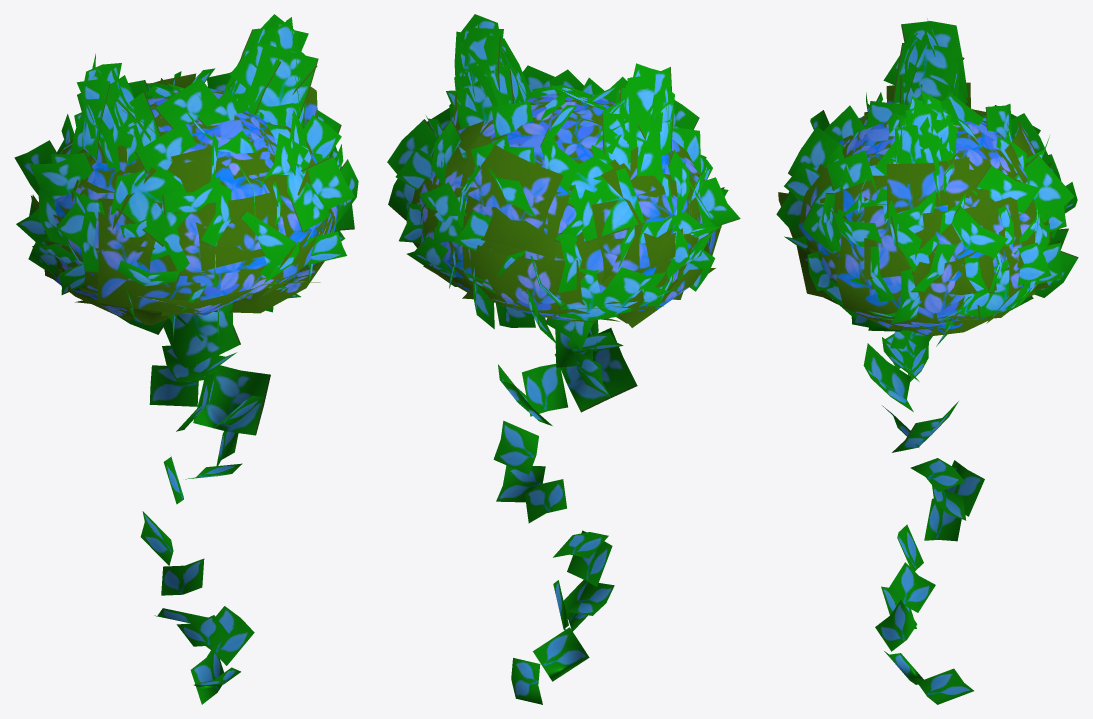
The model's file is Homeworld_Exterior_Common_Flower_Decoration_Green_02_A_Lod0.fbx.
The picture shows the model from 3 angles, left to right: view 1: azimuth 30°, elevation 25°; view 2: azimuth 150°, elevation 25°; view 3: azimuth 270°, elevation 25°; orthographic projection. The views are drawn at different scales.
Parts seen in each view (by area): view 1: Homeworld_Exterior_Common_Flower_Decoration_Green_02_A_Lod0; view 2: Homeworld_Exterior_Common_Flower_Decoration_Green_02_A_Lod0; view 3: Homeworld_Exterior_Common_Flower_Decoration_Green_02_A_Lod0.
Boxes of the visible parts, box(x1,y1,x2,y2) form: Homeworld_Exterior_Common_Flower_Decoration_Green_02_A_Lod0: box(14, 14, 358, 704); Homeworld_Exterior_Common_Flower_Decoration_Green_02_A_Lod0: box(387, 14, 740, 704); Homeworld_Exterior_Common_Flower_Decoration_Green_02_A_Lod0: box(776, 18, 1078, 704).
Bounding box in the file's own units: 0.8633 × 1.86 × 0.8103.
